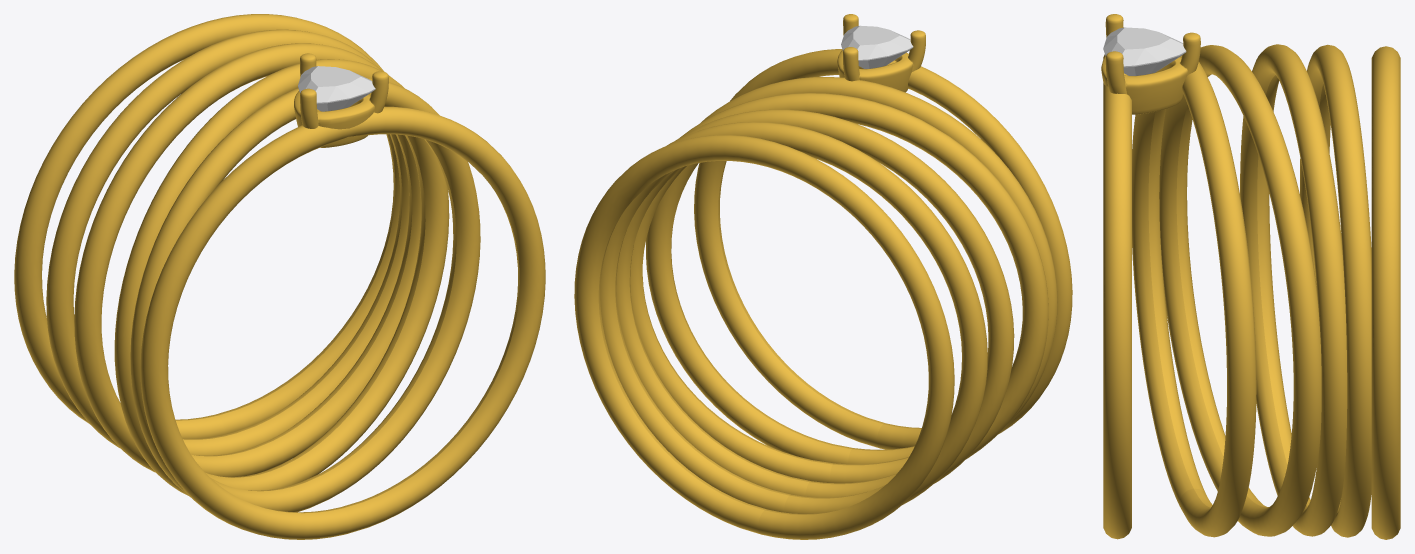
Rendered from Ring_E_Optimazed_01.fbx.
3 views of the same model, side by side, from view 1: azimuth 30°, elevation 25°; view 2: azimuth 150°, elevation 25°; view 3: azimuth 270°, elevation 25° (orthographic). The views are drawn at different scales.
Visible parts, largest first — view 1: Ring_C_01_Object, Ring_C_Diamod_Object; view 2: Ring_C_01_Object, Ring_C_Diamod_Object; view 3: Ring_C_01_Object, Ring_C_Diamod_Object.
Boxes of the visible parts, x1,y1,x2,y2 form: Ring_C_01_Object: (14, 14, 545, 539); Ring_C_Diamod_Object: (298, 66, 375, 111); Ring_C_01_Object: (574, 14, 1072, 539); Ring_C_Diamod_Object: (841, 25, 913, 68); Ring_C_01_Object: (1101, 14, 1400, 539); Ring_C_Diamod_Object: (1103, 27, 1186, 75).
Size of the model in its own units: 1.99 by 2.13 by 1.2.
